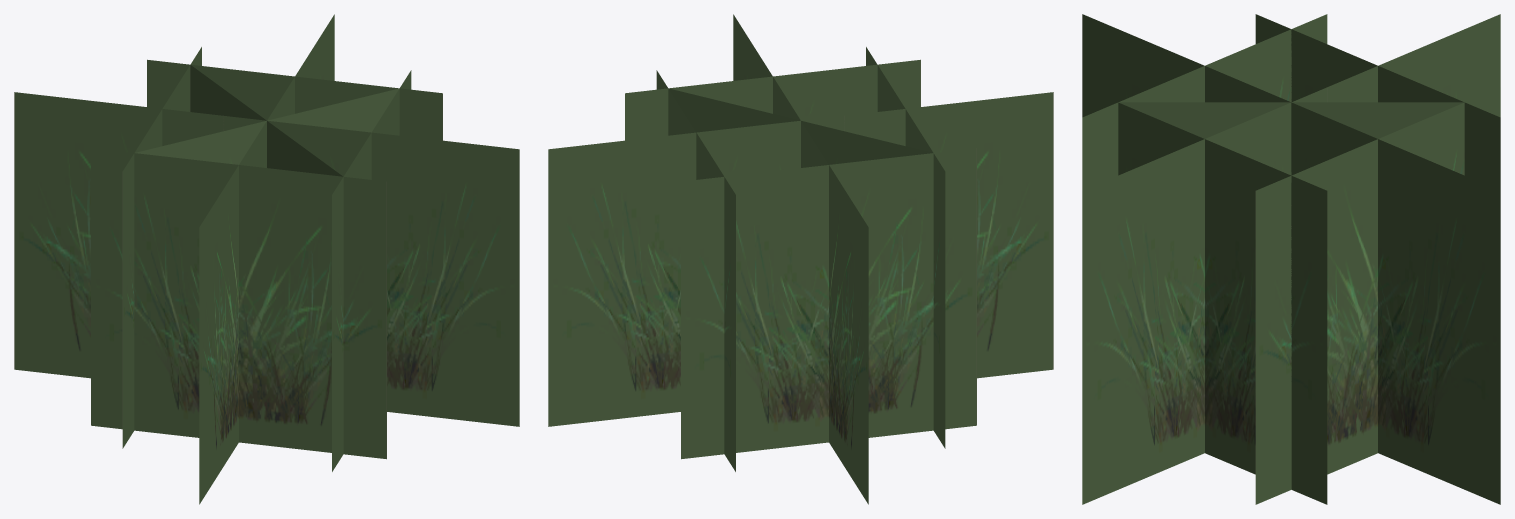
The model's file is grasspatch_medium.gltf.
3 views of the same model, side by side, from view 1: azimuth 30°, elevation 25°; view 2: azimuth 150°, elevation 25°; view 3: azimuth 270°, elevation 25° (orthographic). The views are drawn at different scales.
Parts seen in each view (by area): view 1: Plane.005; view 2: Plane.005; view 3: Plane.005.
Part boxes in pixels (x1,y1,x2,y2): Plane.005: (14,14,519,504); Plane.005: (548,14,1053,504); Plane.005: (1082,14,1500,504).
Bounding box in the file's own units: 2.41 × 2 × 2.41.
Materials: 1 (1 with a texture image).
